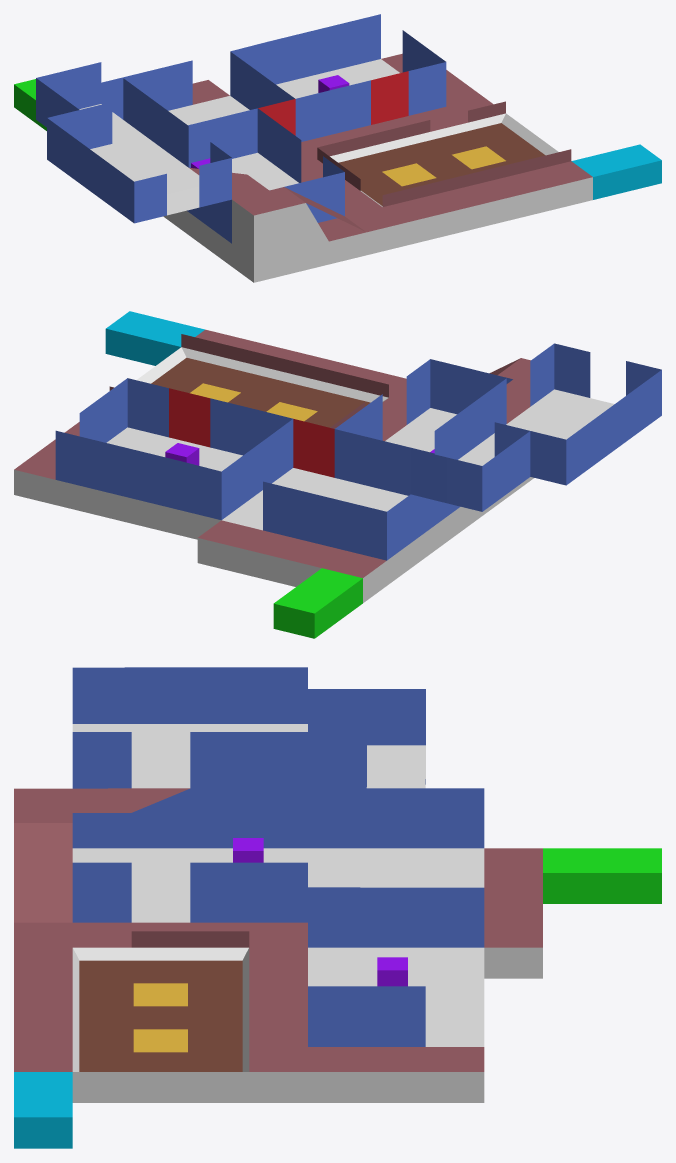
The model's file is level2B.fbx.
3 views of the same model, one above another, from view 1: azimuth 30°, elevation 25°; view 2: azimuth 150°, elevation 25°; view 3: azimuth 270°, elevation 25° (orthographic). The views are drawn at different scales.
Visible parts, largest first — view 1: Cube.001; view 2: Cube.001; view 3: Cube.001.
Part boxes in pixels (x1,y1,x2,y2): Cube.001: (14, 14, 661, 282); Cube.001: (14, 311, 661, 638); Cube.001: (14, 667, 661, 1148).
Size of the model in its own units: 814 by 168 by 669.
